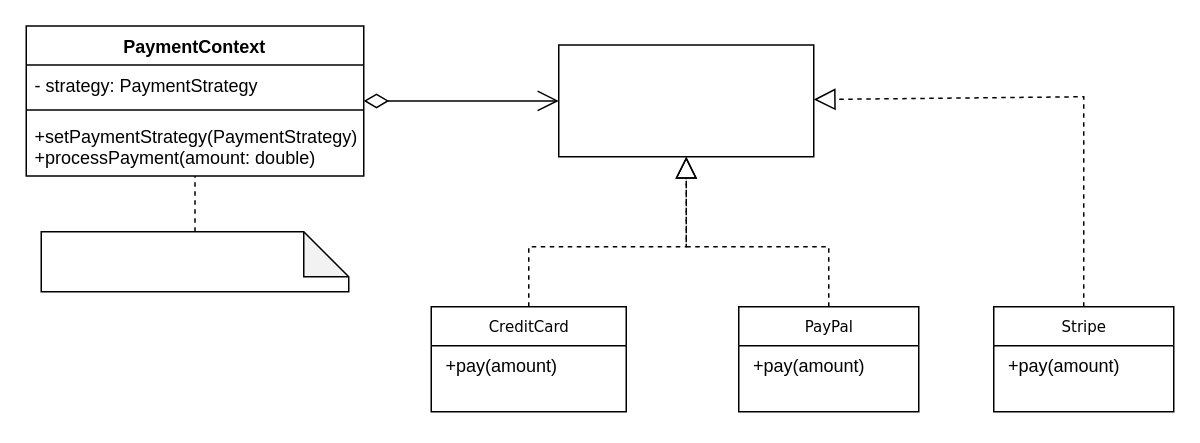
The diagram is 1200 pixels wide and 443 high, and some of its shapes have lost their labels. The shapes that lost their labels are listed below. From the top down, each one's centre as x and y in pixels, then its label:
the point at 685,100: <<Interface>> PaymentStrategy +pay(amount: double): void
the point at 194,261: payment=strategy.pay(amount)
